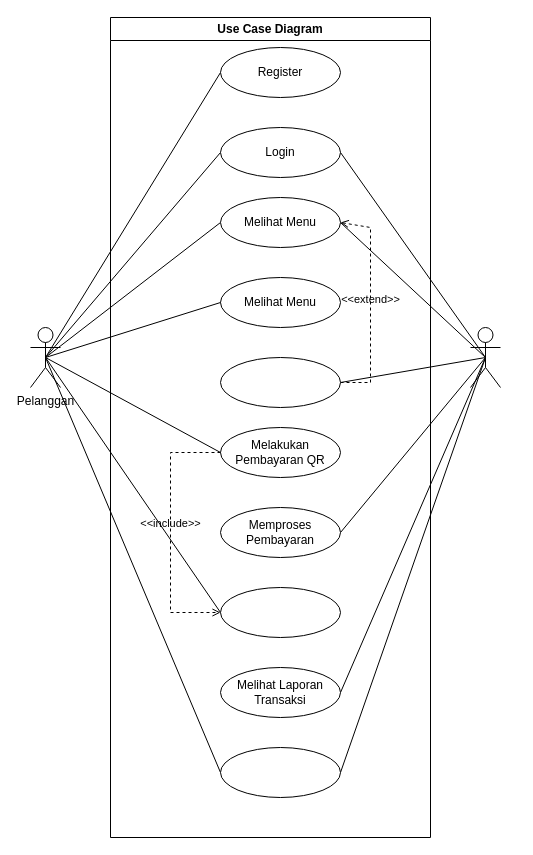
Some shapes in this 533 by 855 pixel diagram are drawn without their labels. Here are the shapes that lost their labels. From the top down, the box of each, then its label:
(470, 326, 500, 388): Penggelola
(220, 356, 340, 408): Mengelola Menu
(220, 586, 340, 638): Memberikan Umpan Balik
(220, 746, 340, 798): Logout
